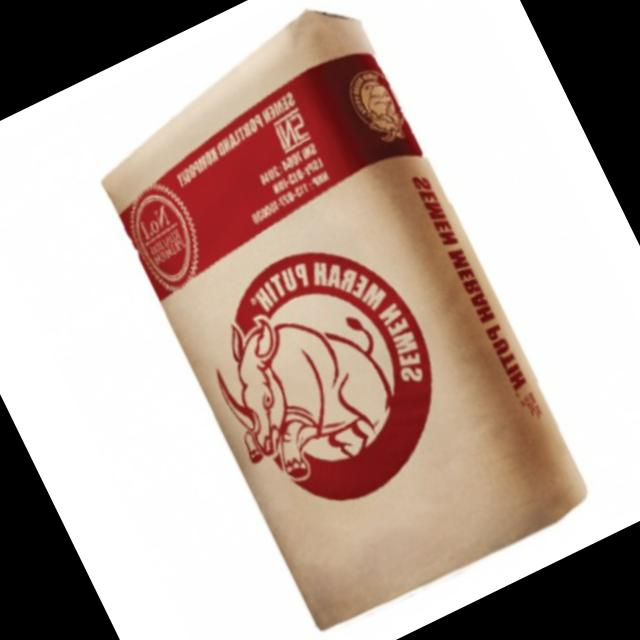KantongSemen: (68, 0, 598, 637)
